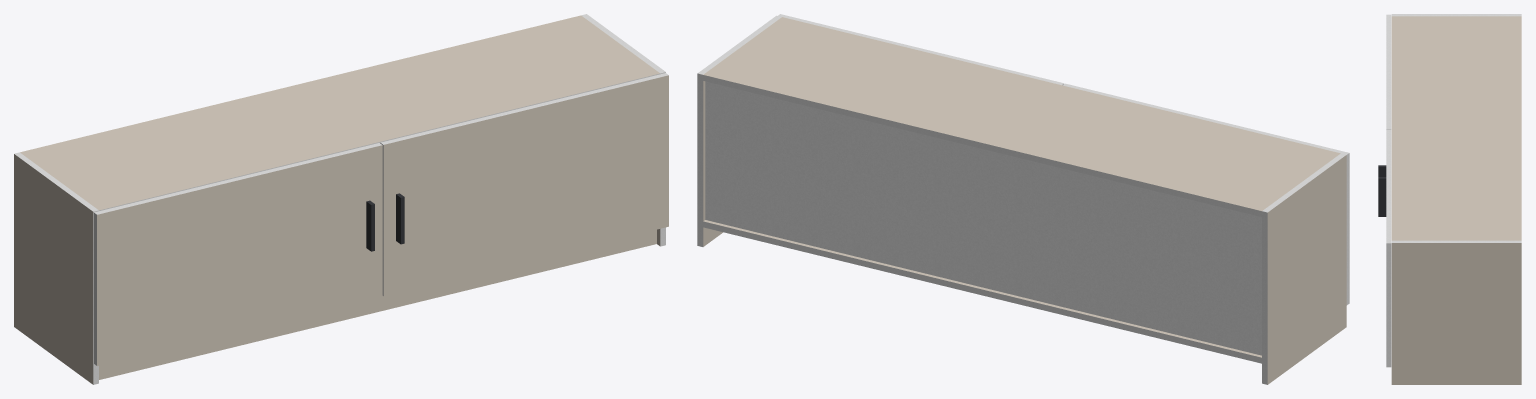
The model's file is CAL-MED-std.glb.
The picture shows the model from 3 angles, left to right: view 1: azimuth 30°, elevation 25°; view 2: azimuth 150°, elevation 25°; view 3: azimuth 270°, elevation 25°; orthographic projection. The views are drawn at different scales.
Visible parts, largest first — view 1: top:pbr, door-l:pbr, door-r:pbr, side-l:pbr, plinth:pbr, door-l:sheet:eyJtIjoibWRmIiwic2lkZSI6ImVkZ2UtbG9uZyIsInNlZWQ, door-r:sheet:eyJtIjoibWRmIiwic2lkZSI6ImVkZ2UtbG9uZyIsInNlZWQ, pull, top:sheet:eyJtIjoibWRmIiwic2lkZSI6ImVkZ2UtbG9uZyIsInNlZWQiOj; view 2: back:sheet:eyJtIjoibWRmIiwic2lkZSI6ImZhY2UiLCJzZWVkIjoxLCJ0a, top:pbr, side-l:pbr, bottom:sheet:eyJtIjoibWRmIiwic2lkZSI6ImVkZ2UtbG9uZyIsInNlZWQ, top:sheet:eyJtIjoibWRmIiwic2lkZSI6ImVkZ2UtbG9uZyIsInNlZWQiOj, bottom:pbr, side-r:sheet:eyJtIjoibWRmIiwic2lkZSI6ImVkZ2UtbG9uZyIsInNlZWQ, side-l:sheet:eyJtIjoibWRmIiwic2lkZSI6ImVkZ2UtbG9uZyIsInNlZWQ, door-l:sheet:eyJtIjoibWRmIiwic2lkZSI6ImVkZ2UtbG9uZyIsInNlZWQ, door-r:sheet:eyJtIjoibWRmIiwic2lkZSI6ImVkZ2UtbG9uZyIsInNlZWQ, side-r:pbr, door-l:sheet:eyJtIjoibWRmIiwic2lkZSI6ImVkZ2UtZW5kIiwic2VlZCI; view 3: top:pbr, side-r:pbr, door-r:sheet:eyJtIjoibWRmIiwic2lkZSI6ImVkZ2UtZW5kIiwic2VlZCI, door-l:sheet:eyJtIjoibWRmIiwic2lkZSI6ImVkZ2UtbG9uZyIsInNlZWQ, door-r:sheet:eyJtIjoibWRmIiwic2lkZSI6ImVkZ2UtbG9uZyIsInNlZWQ, pull, side-l:sheet:eyJtIjoibWRmIiwic2lkZSI6ImVkZ2UtZW5kIiwic2VlZCI, side-r:sheet:eyJtIjoibWRmIiwic2lkZSI6ImVkZ2UtZW5kIiwic2VlZCI.
Boxes of the visible parts, x1,y1,x2,y2 form: top:pbr: (20,15,659,210); door-l:pbr: (97,145,382,365); door-r:pbr: (383,75,668,295); side-l:pbr: (14,154,93,384); plinth:pbr: (99,229,656,379); door-l:sheet:eyJtIjoibWRmIiwic2lkZSI6ImVkZ2UtbG9uZyIsInNlZWQ: (94,143,382,214); door-r:sheet:eyJtIjoibWRmIiwic2lkZSI6ImVkZ2UtbG9uZyIsInNlZWQ: (381,73,668,144); pull: (366,193,404,251); top:sheet:eyJtIjoibWRmIiwic2lkZSI6ImVkZ2UtbG9uZyIsInNlZWQiOj: (99,73,659,210); back:sheet:eyJtIjoibWRmIiwic2lkZSI6ImZhY2UiLCJzZWVkIjoxLCJ0a: (705,81,1261,355); top:pbr: (703,17,1340,210); side-l:pbr: (1267,155,1346,384); bottom:sheet:eyJtIjoibWRmIiwic2lkZSI6ImVkZ2UtbG9uZyIsInNlZWQ: (703,221,1261,363); top:sheet:eyJtIjoibWRmIiwic2lkZSI6ImVkZ2UtbG9uZyIsInNlZWQiOj: (703,75,1261,216); bottom:pbr: (703,220,1261,357); side-r:sheet:eyJtIjoibWRmIiwic2lkZSI6ImVkZ2UtbG9uZyIsInNlZWQ: (697,73,703,246); side-l:sheet:eyJtIjoibWRmIiwic2lkZSI6ImVkZ2UtbG9uZyIsInNlZWQ: (1262,211,1267,384); door-l:sheet:eyJtIjoibWRmIiwic2lkZSI6ImVkZ2UtbG9uZyIsInNlZWQ: (1063,83,1348,154); door-r:sheet:eyJtIjoibWRmIiwic2lkZSI6ImVkZ2UtbG9uZyIsInNlZWQ: (778,14,1063,85); side-r:pbr: (703,81,722,246); door-l:sheet:eyJtIjoibWRmIiwic2lkZSI6ImVkZ2UtZW5kIiwic2VlZCI: (1346,153,1349,305); top:pbr: (1391,16,1521,240); side-r:pbr: (1391,243,1521,384); door-r:sheet:eyJtIjoibWRmIiwic2lkZSI6ImVkZ2UtZW5kIiwic2VlZCI: (1386,243,1391,367); door-l:sheet:eyJtIjoibWRmIiwic2lkZSI6ImVkZ2UtbG9uZyIsInNlZWQ: (1386,14,1391,128); door-r:sheet:eyJtIjoibWRmIiwic2lkZSI6ImVkZ2UtbG9uZyIsInNlZWQ: (1386,129,1391,243); pull: (1378,165,1386,216); side-l:sheet:eyJtIjoibWRmIiwic2lkZSI6ImVkZ2UtZW5kIiwic2VlZCI: (1391,14,1521,16); side-r:sheet:eyJtIjoibWRmIiwic2lkZSI6ImVkZ2UtZW5kIiwic2VlZCI: (1391,240,1521,242).
Bounding box in the file's own units: 1.8 × 0.52 × 0.4769.
34 materials, 23 textured.
